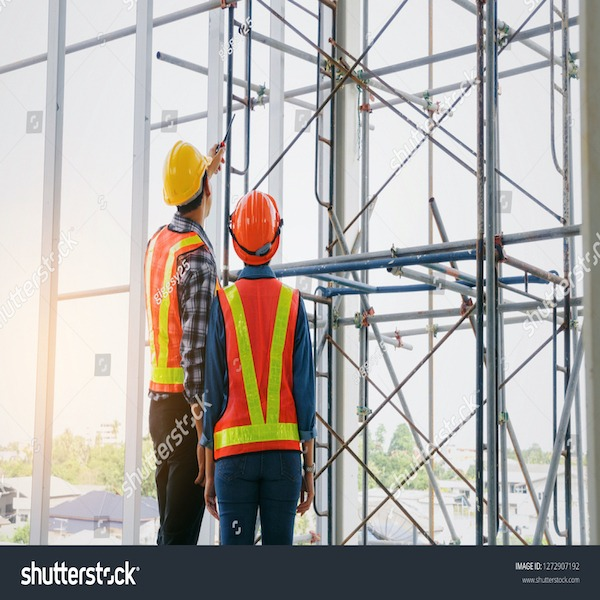helmet: (229, 191, 291, 260), (161, 139, 213, 211)
vest: (216, 263, 301, 451), (147, 219, 206, 403)
